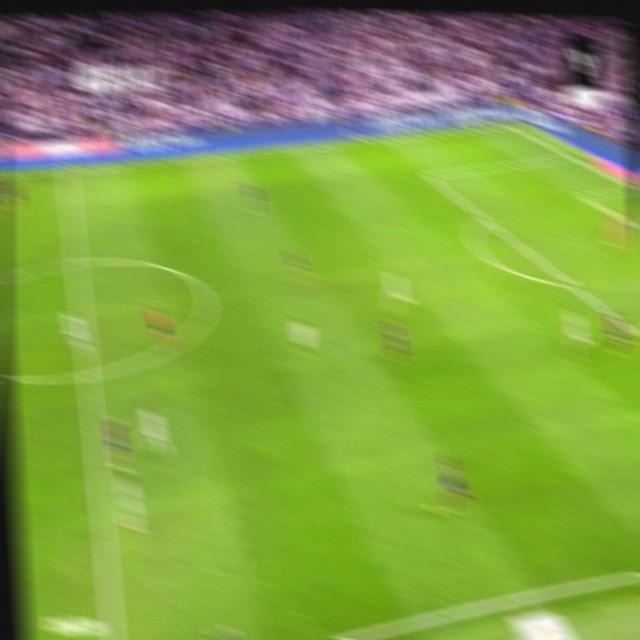bigarea_top_inner: (423, 168, 437, 183)
bigarea_top_outter: (561, 147, 577, 163)
bottom_arc_area_intersection: (561, 274, 578, 292)
corner: (502, 120, 514, 128)
halfcircle_bottom: (78, 359, 97, 390)
halfcircle_top: (66, 248, 86, 277)
midline_top_intersection: (58, 161, 74, 180)
smallarea_top_inner: (579, 191, 591, 203)
top_arc_area_intersection: (476, 209, 491, 226)
